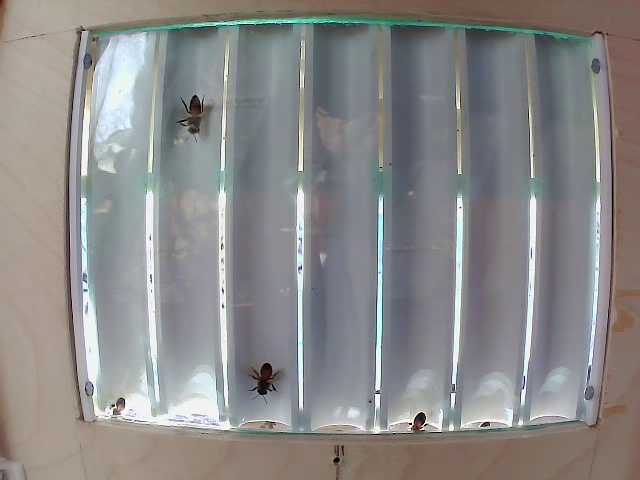bee: (247, 340, 295, 404), (182, 84, 215, 146)
